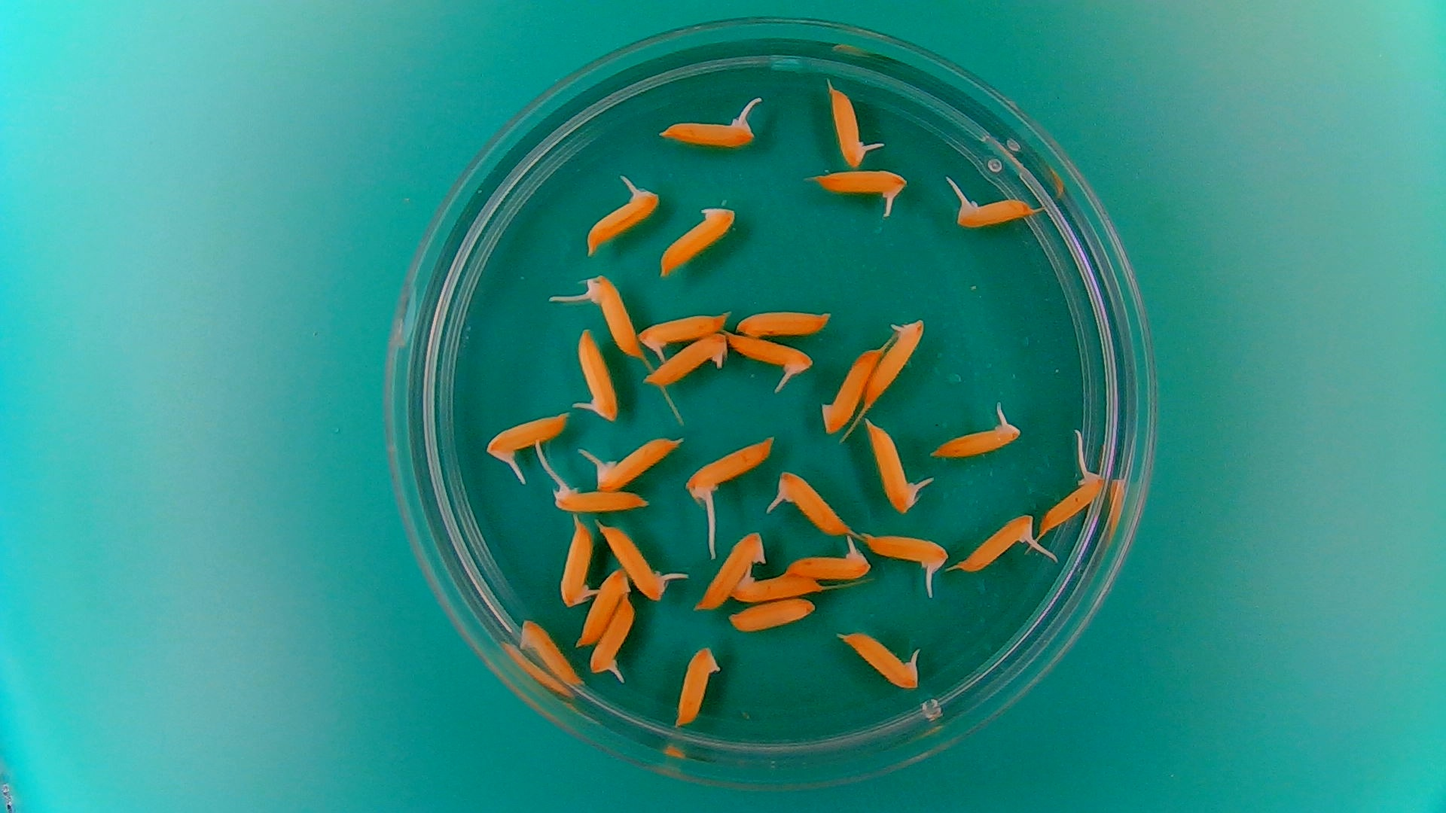no: (653, 198, 742, 279), (694, 527, 767, 613), (818, 343, 880, 437), (641, 330, 728, 391), (519, 616, 585, 690), (578, 566, 630, 647), (732, 303, 836, 340), (727, 596, 818, 633), (678, 642, 719, 724)
yes: (580, 169, 663, 256), (864, 416, 929, 516), (766, 466, 853, 539), (864, 317, 928, 409), (686, 437, 775, 502), (596, 524, 669, 601), (838, 630, 923, 691), (955, 515, 1036, 574), (584, 278, 642, 360), (593, 437, 674, 494), (578, 322, 620, 423), (1039, 467, 1101, 534), (484, 408, 565, 459), (723, 330, 811, 376), (590, 593, 636, 679), (780, 541, 873, 583), (932, 418, 1018, 462), (556, 515, 596, 609), (728, 567, 827, 604), (636, 311, 719, 352), (665, 115, 753, 149), (947, 196, 1029, 230), (552, 486, 649, 513), (868, 534, 947, 567), (816, 172, 908, 199), (832, 90, 865, 165)
